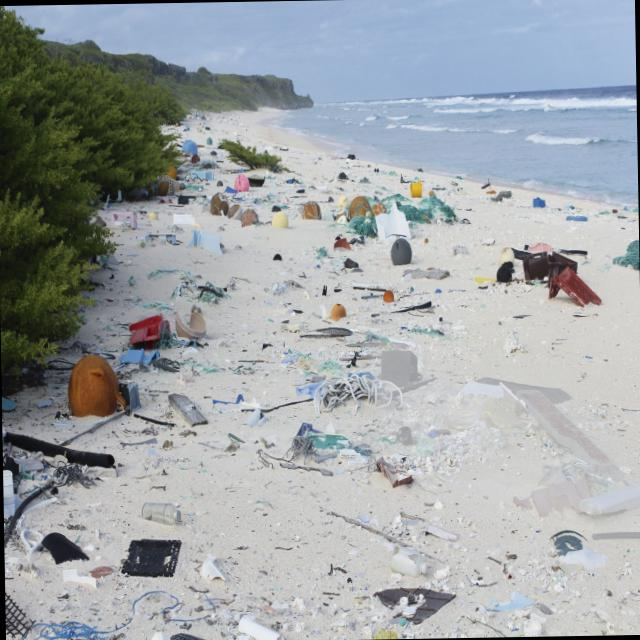garbage: (0, 314, 223, 605), (243, 315, 461, 495), (136, 182, 473, 280), (486, 229, 610, 338), (178, 110, 258, 186)
